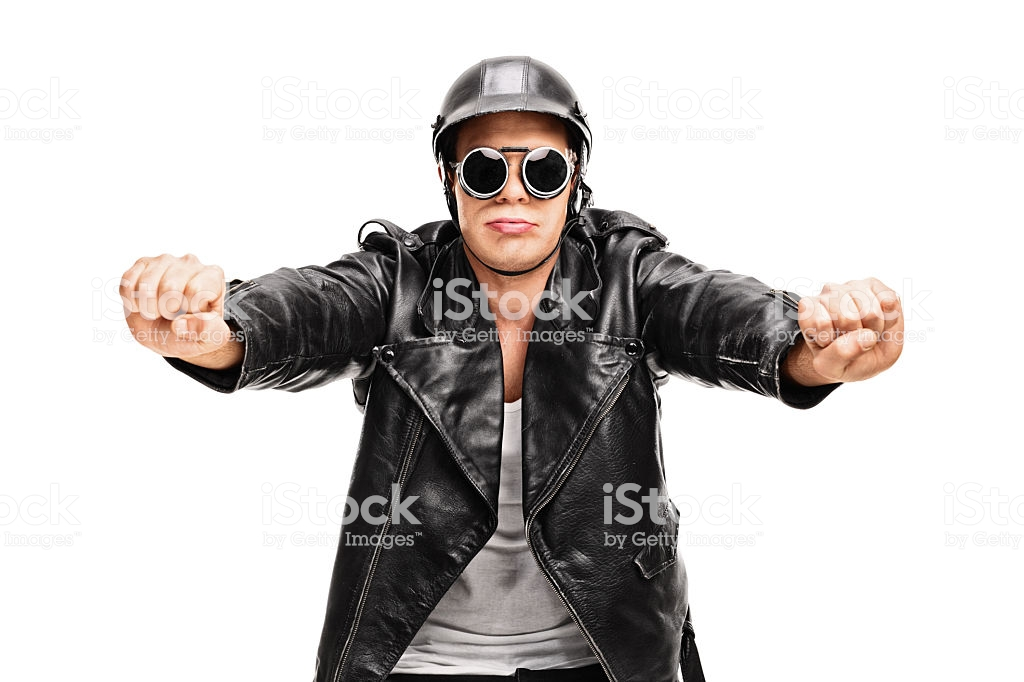helmet: (426, 45, 593, 191)
